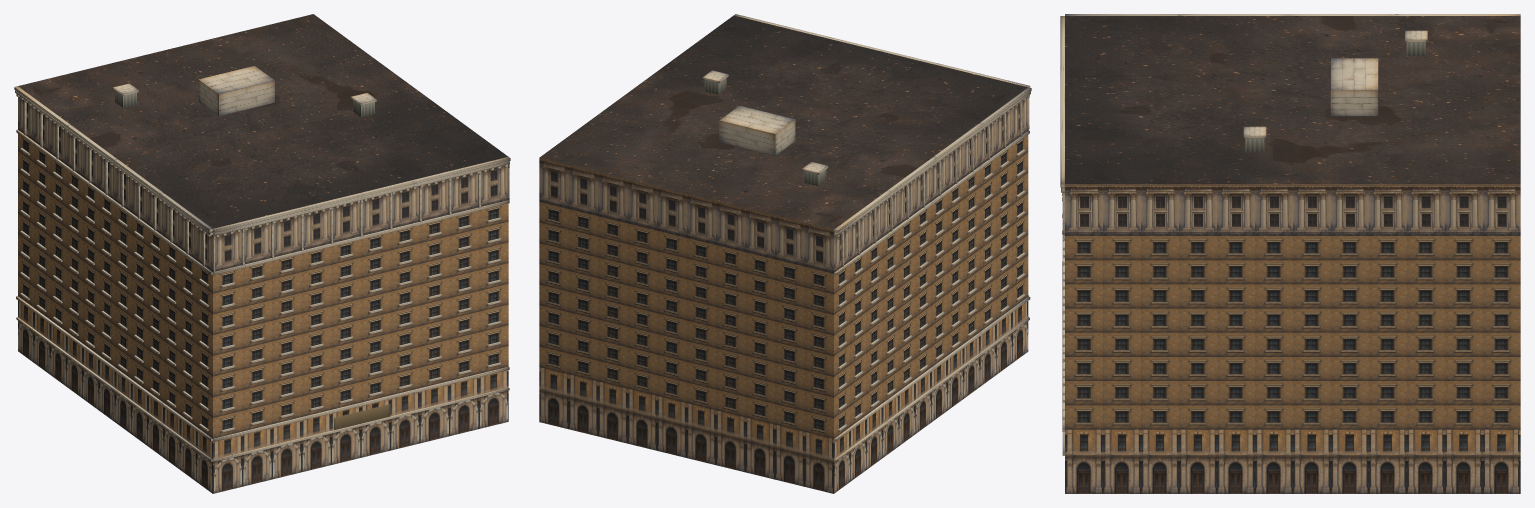
File: LM_Taft.fbx
3 views of the same model, side by side, from view 1: azimuth 30°, elevation 25°; view 2: azimuth 150°, elevation 25°; view 3: azimuth 270°, elevation 25° (orthographic). The views are drawn at different scales.
Visible parts, largest first — view 1: LM_Taft; view 2: LM_Taft; view 3: LM_Taft.
Boxes of the visible parts, <box> form: LM_Taft: <box>14,14,510,493</box>; LM_Taft: <box>539,14,1031,493</box>; LM_Taft: <box>1060,14,1520,493</box>.
Bounding box in the file's own units: 42.5 × 48.5 × 39.
Materials: 1 (1 with a texture image).
